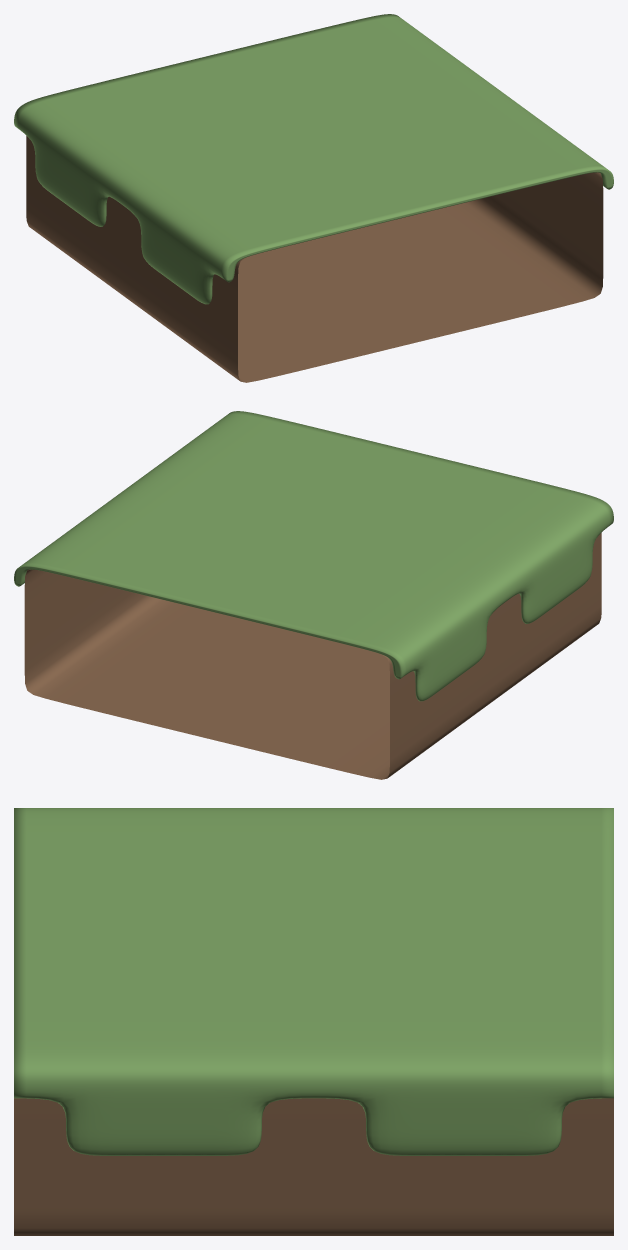
The model's file is middle part platform.fbx.
3 views of the same model, one above another, from view 1: azimuth 30°, elevation 25°; view 2: azimuth 150°, elevation 25°; view 3: azimuth 270°, elevation 25° (orthographic). The views are drawn at different scales.
Parts seen in each view (by area): view 1: Cube.019; view 2: Cube.019; view 3: Cube.019.
Part boxes in pixels (x1,y1,x2,y2): Cube.019: (14, 14, 613, 382); Cube.019: (14, 411, 613, 779); Cube.019: (14, 808, 613, 1235).
Size of the model in its own units: 318 by 102 by 300.
